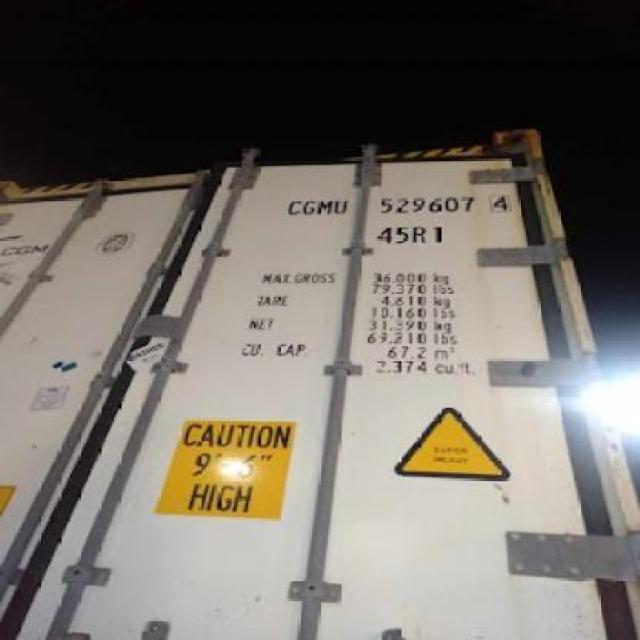ISO: (378, 222, 448, 244)
container_number: (286, 192, 504, 220)
